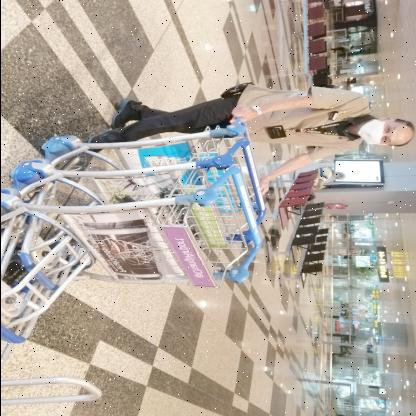airport-trolley: (0, 167, 261, 411), (12, 112, 270, 242)
